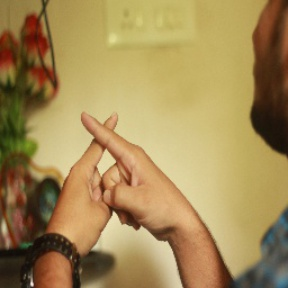X: (60, 104, 149, 195)
